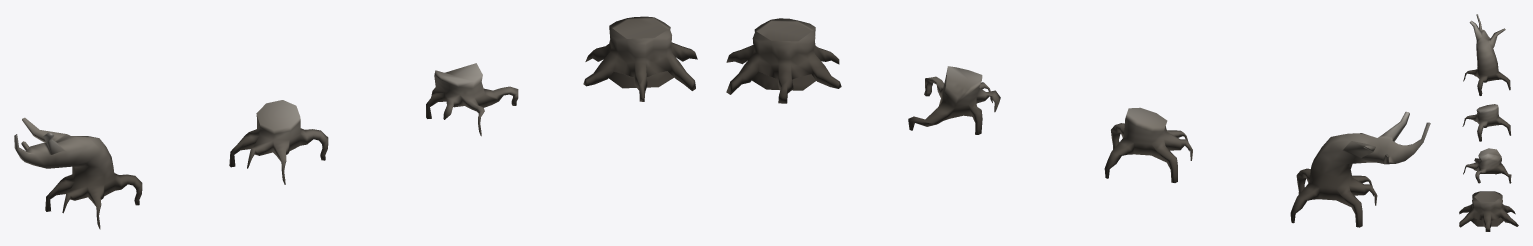
The model's file is M_Trees_Stumps_01.fbx.
3 renders of one model, left to right at view 1: azimuth 30°, elevation 25°; view 2: azimuth 150°, elevation 25°; view 3: azimuth 270°, elevation 25°, orthographic. The views are drawn at different scales.
Parts seen in each view (by area): view 1: M_Root_Stump01, M_Root_Stump04, M_Root_Stump03, M_Root_Stump02; view 2: M_Root_Stump01, M_Root_Stump04, M_Root_Stump03, M_Root_Stump02; view 3: M_Root_Stump01, M_Root_Stump04, M_Root_Stump02, M_Root_Stump03.
Boxes of the visible parts, x1,y1,x2,y2 form: M_Root_Stump01: [583, 16, 697, 101]; M_Root_Stump04: [14, 117, 142, 229]; M_Root_Stump03: [229, 100, 328, 184]; M_Root_Stump02: [426, 63, 518, 136]; M_Root_Stump01: [726, 18, 841, 103]; M_Root_Stump04: [1290, 111, 1430, 227]; M_Root_Stump03: [1104, 107, 1192, 182]; M_Root_Stump02: [908, 66, 1000, 134]; M_Root_Stump01: [1459, 191, 1518, 231]; M_Root_Stump04: [1463, 14, 1510, 95]; M_Root_Stump02: [1463, 148, 1511, 183]; M_Root_Stump03: [1462, 104, 1510, 141].
Bounding box in the file's own units: 1531 × 219 × 230.
